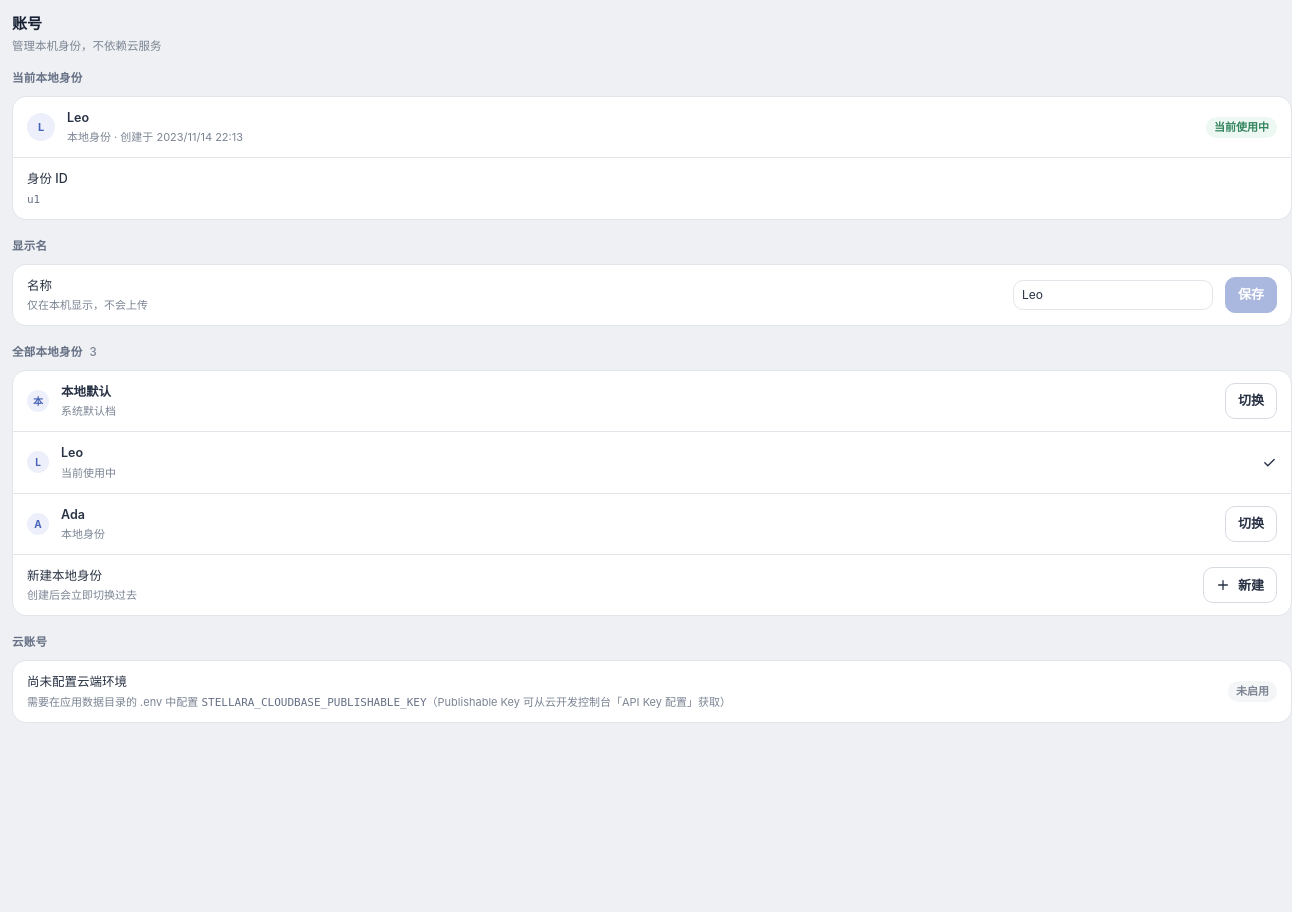
Test case: SettingsAccountPanel identity switching › asks for confirmation when tasks are running and cancel aborts the switch
Click the button "切换" in the row of "Ada". click: coordinates (1251, 524)
box: top-left (1225, 506), bottom-right (1277, 542)
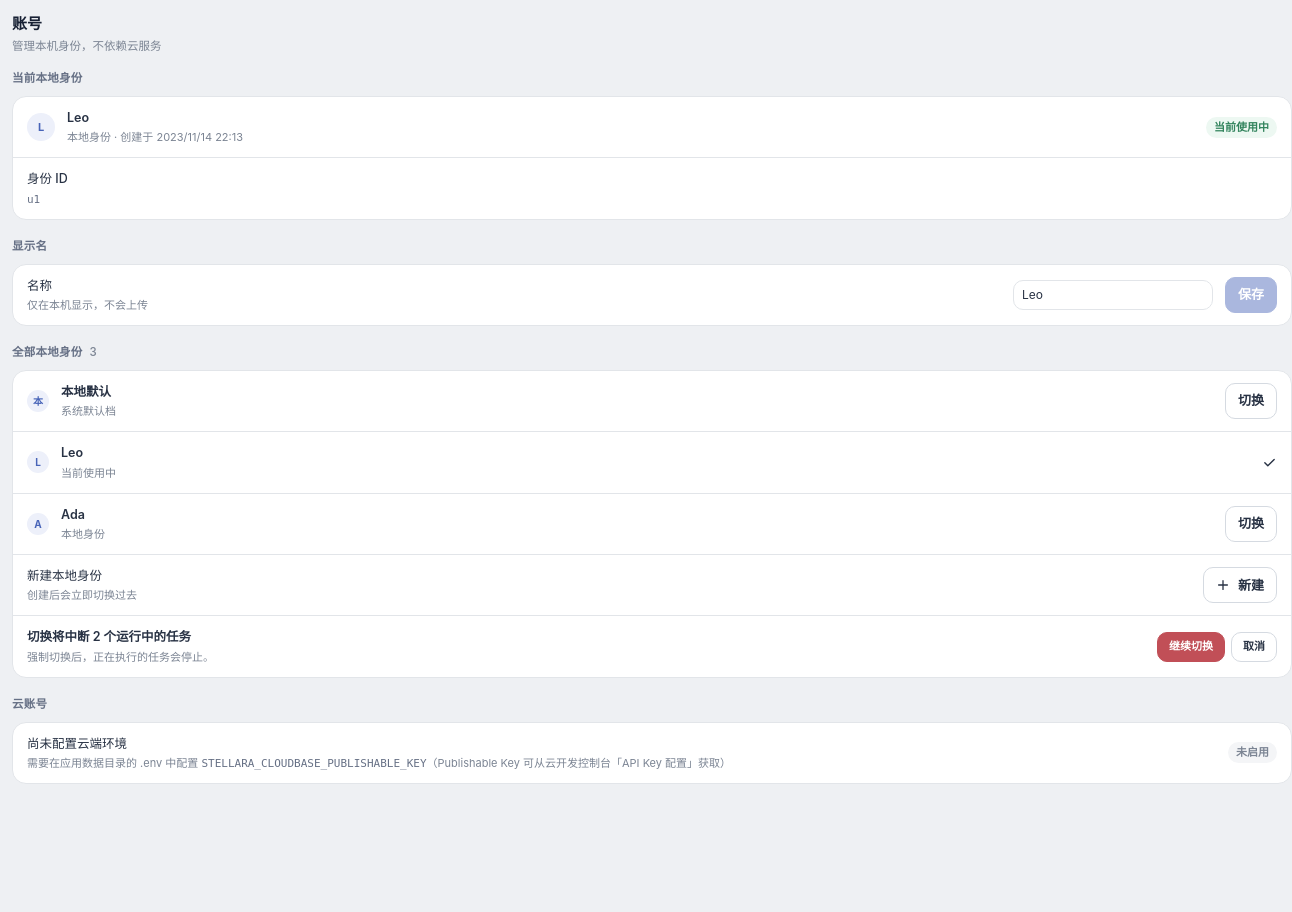
Expected: the message "切换将中断 2 个运行中的任务 强制切换后，正在执行的任务会停止。 继续切换 取消" is shown, top-left (13, 616), bottom-right (1291, 677)
Click the button "取消". click: coordinates (1254, 647)
box: top-left (1231, 632), bottom-right (1277, 662)
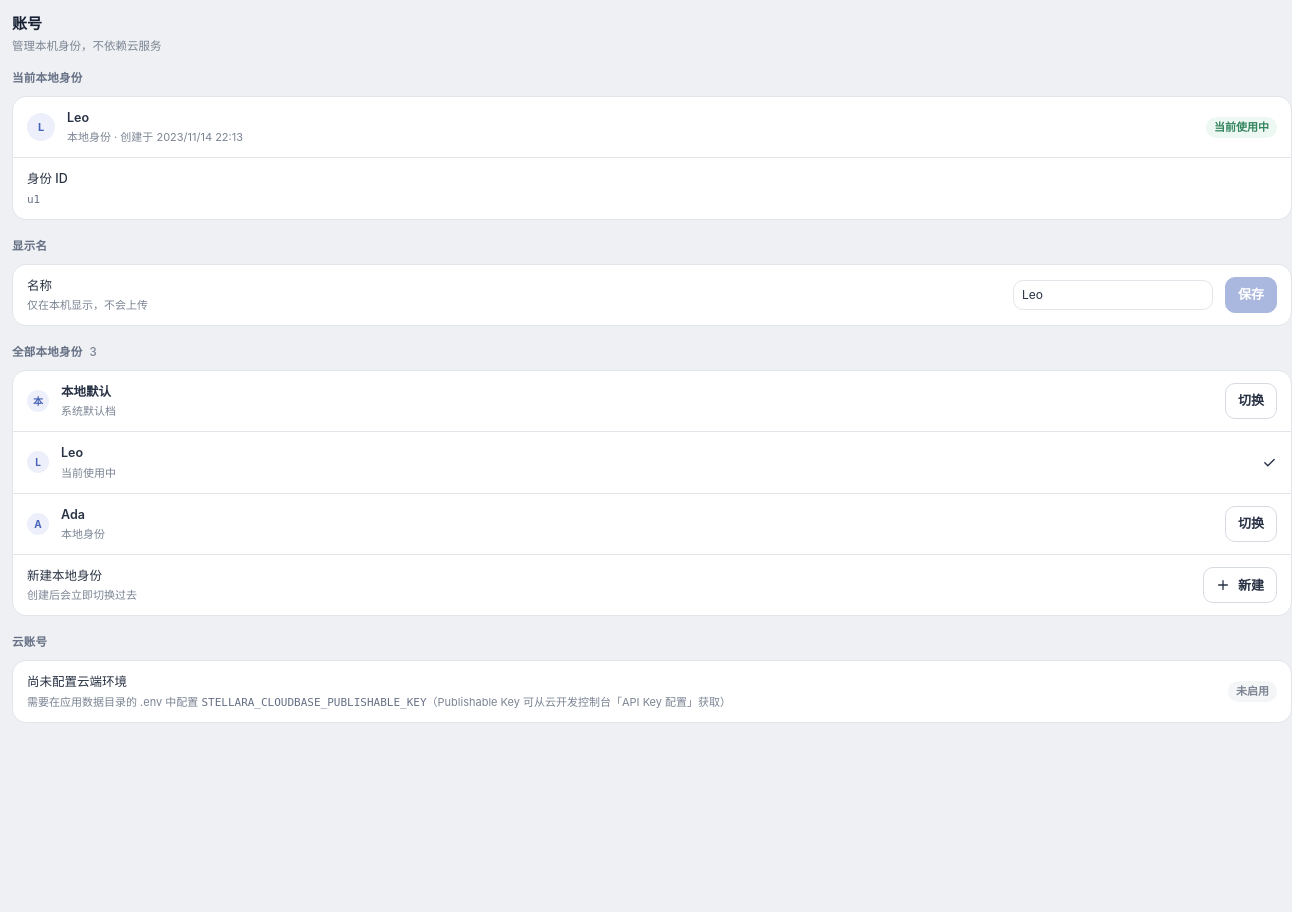
Expected: the element with class "settings-item" showing "A Ada 本地身份 切换" is shown, top-left (13, 493), bottom-right (1291, 554)
Expected: the text "切换将中断" is gone
